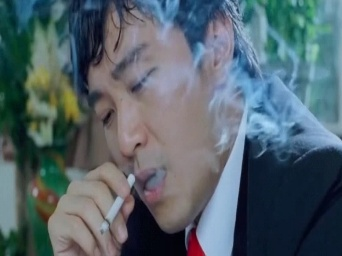smoke: (99, 175, 132, 233)
